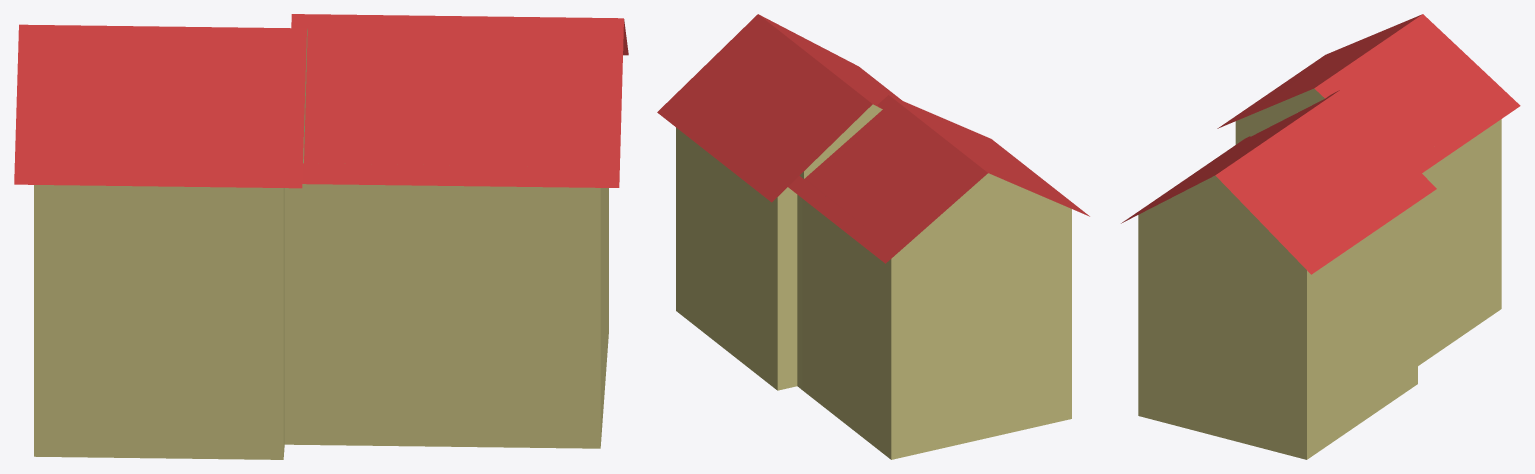
3 views of the same model, side by side, from view 1: azimuth 30°, elevation 25°; view 2: azimuth 150°, elevation 25°; view 3: azimuth 270°, elevation 25° (orthographic). The views are drawn at different scales.
Visible parts, largest first — view 1: group_5, group_9, group_3, group_7, group_8, group_4; view 2: group_9, group_5, group_3, group_7, group_4, group_8; view 3: group_5, group_3, group_7, group_9, group_4, group_8.
Part boxes in pixels (x1=…): group_5: x1=287, y1=184, x2=608, y2=448; group_9: x1=34, y1=29, x2=307, y2=459; group_3: x1=291, y1=14, x2=628, y2=187; group_7: x1=14, y1=24, x2=306, y2=188; group_8: x1=14, y1=25, x2=303, y2=188; group_4: x1=303, y1=18, x2=627, y2=187; group_9: x1=804, y1=173, x2=1071, y2=459; group_5: x1=676, y1=104, x2=882, y2=390; group_3: x1=657, y1=14, x2=901, y2=202; group_7: x1=788, y1=95, x2=1089, y2=263; group_4: x1=658, y1=14, x2=901, y2=201; group_8: x1=789, y1=124, x2=1085, y2=262; group_5: x1=1138, y1=175, x2=1417, y2=459; group_3: x1=1121, y1=89, x2=1436, y2=274; group_7: x1=1217, y1=14, x2=1520, y2=172; group_9: x1=1235, y1=88, x2=1501, y2=365; group_4: x1=1130, y1=138, x2=1436, y2=273; group_8: x1=1218, y1=16, x2=1518, y2=169.
Bounding box in the file's own units: 27.2 × 21.77 × 16.
